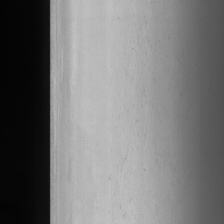silk_spot: (113, 7, 165, 177)
